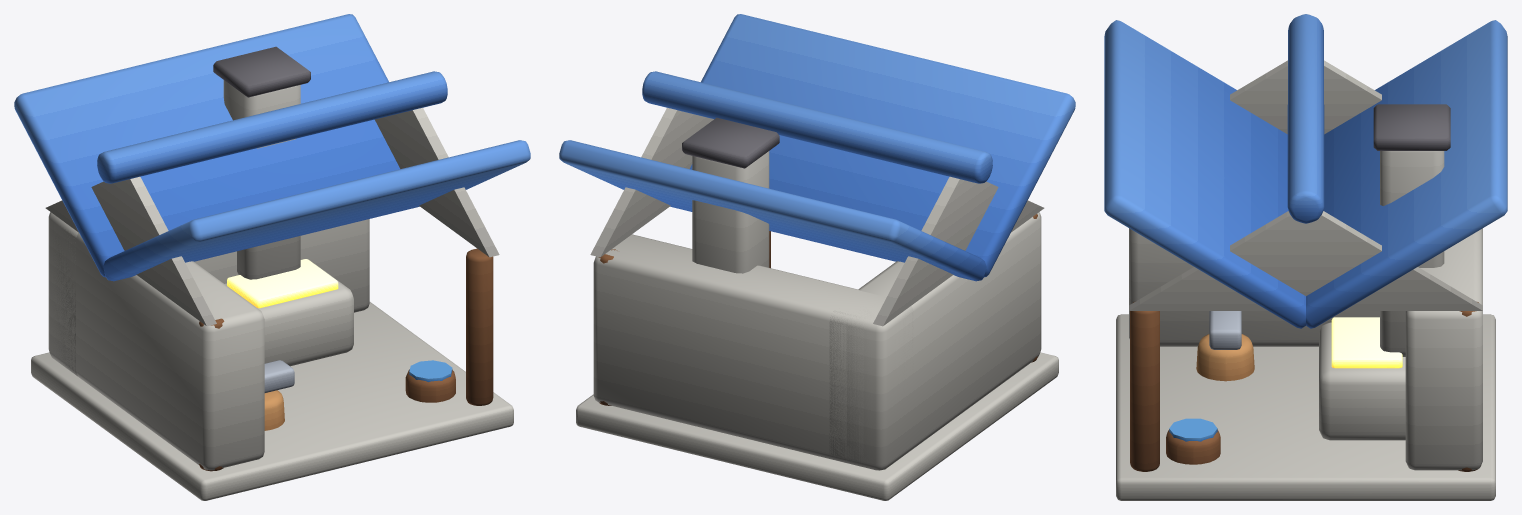
Rendered from forgeB.glb.
3 views of the same model, side by side, from view 1: azimuth 30°, elevation 25°; view 2: azimuth 150°, elevation 25°; view 3: azimuth 270°, elevation 25° (orthographic). The views are drawn at different scales.
Visible parts, largest first — view 1: forgeB; view 2: forgeB; view 3: forgeB.
Boxes of the visible parts, x1,y1,x2,y2 form: forgeB: [14, 14, 530, 500]; forgeB: [559, 14, 1075, 500]; forgeB: [1104, 14, 1507, 500].
Bounding box in the file's own units: 1.33 × 1.1 × 1.25.
1 material, 1 textured.
